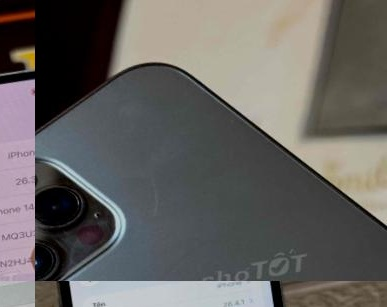scratch: (126, 158, 194, 247)
